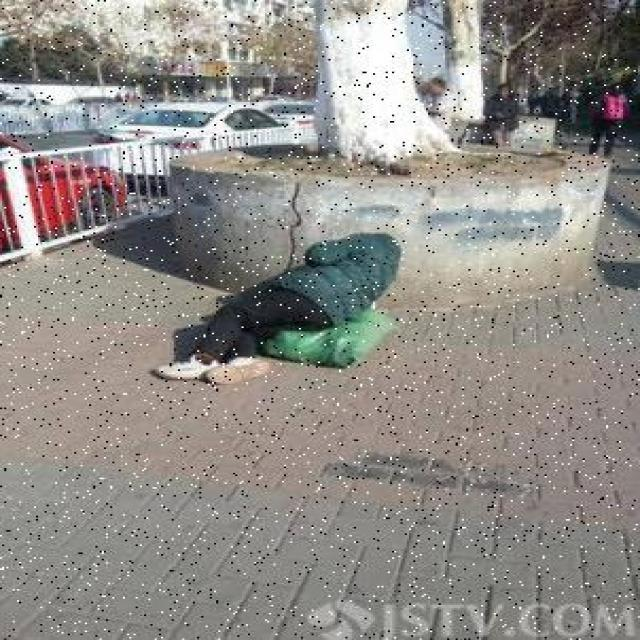fall: (150, 228, 405, 387)
